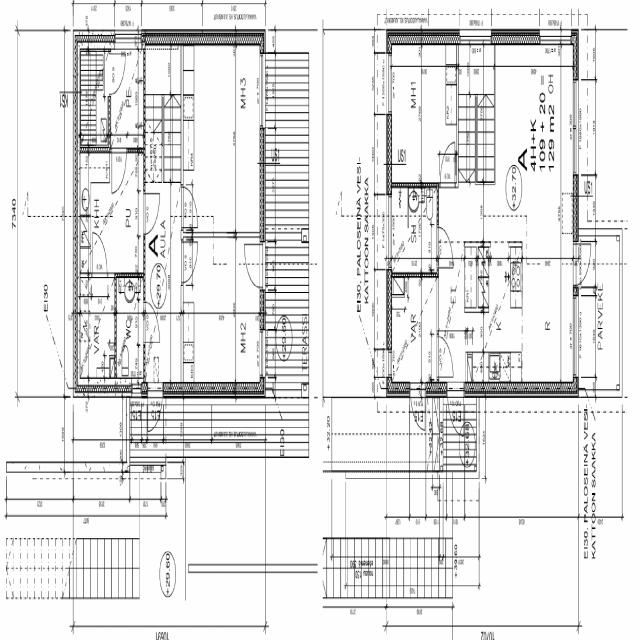door: (446, 383, 464, 444), (243, 242, 265, 290), (573, 241, 595, 287), (147, 383, 163, 440), (411, 382, 426, 438), (109, 50, 127, 94), (143, 193, 161, 236), (181, 241, 199, 283), (181, 186, 198, 228), (437, 224, 454, 266), (111, 146, 126, 193), (440, 141, 455, 187), (92, 229, 106, 278), (144, 302, 160, 343), (437, 338, 453, 378)
